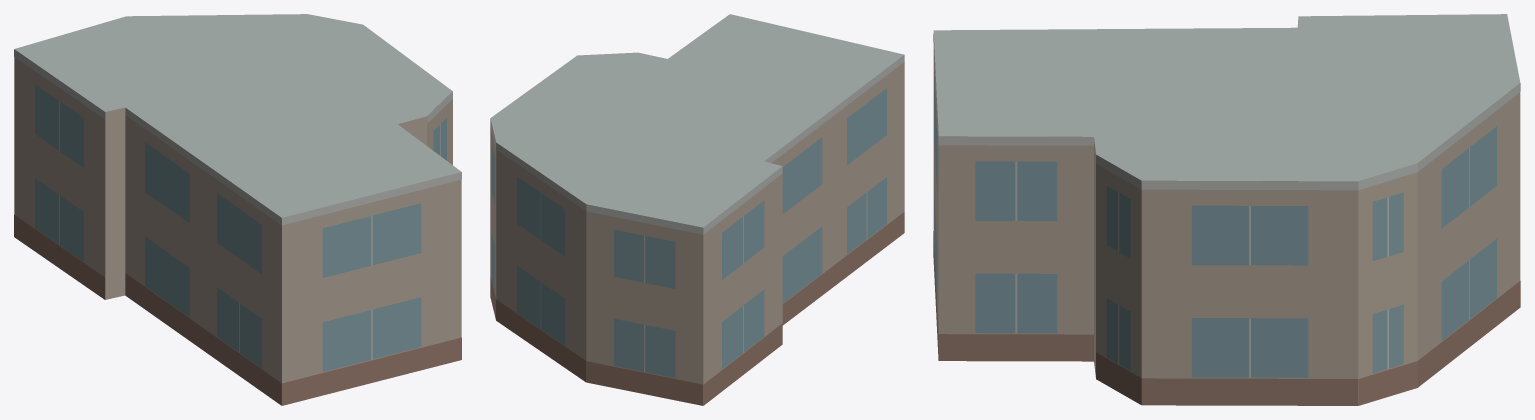
The model's file is survey-upis-33017197.glb.
The picture shows the model from 3 angles, left to right: view 1: azimuth 30°, elevation 25°; view 2: azimuth 150°, elevation 25°; view 3: azimuth 270°, elevation 25°; orthographic projection. The views are drawn at different scales.
Parts seen in each view (by area): view 1: survey-upis-33017197.tmp; view 2: survey-upis-33017197.tmp; view 3: survey-upis-33017197.tmp.
Boxes of the visible parts, left/top/right/bottom form: survey-upis-33017197.tmp: left=14, top=14, right=461, bottom=405; survey-upis-33017197.tmp: left=490, top=14, right=904, bottom=405; survey-upis-33017197.tmp: left=933, top=14, right=1520, bottom=405.
Size of the model in its own units: 9.75 by 6.1 by 14.46.
